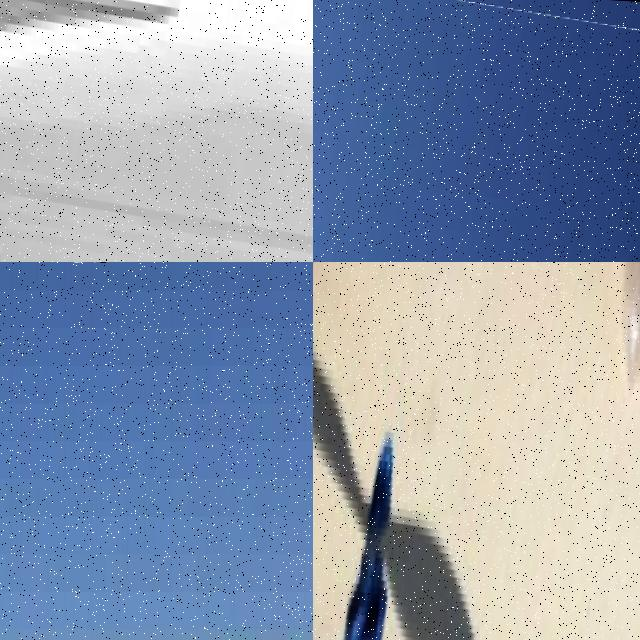drone: (313, 262, 640, 640), (313, 0, 640, 262), (0, 0, 313, 262)
